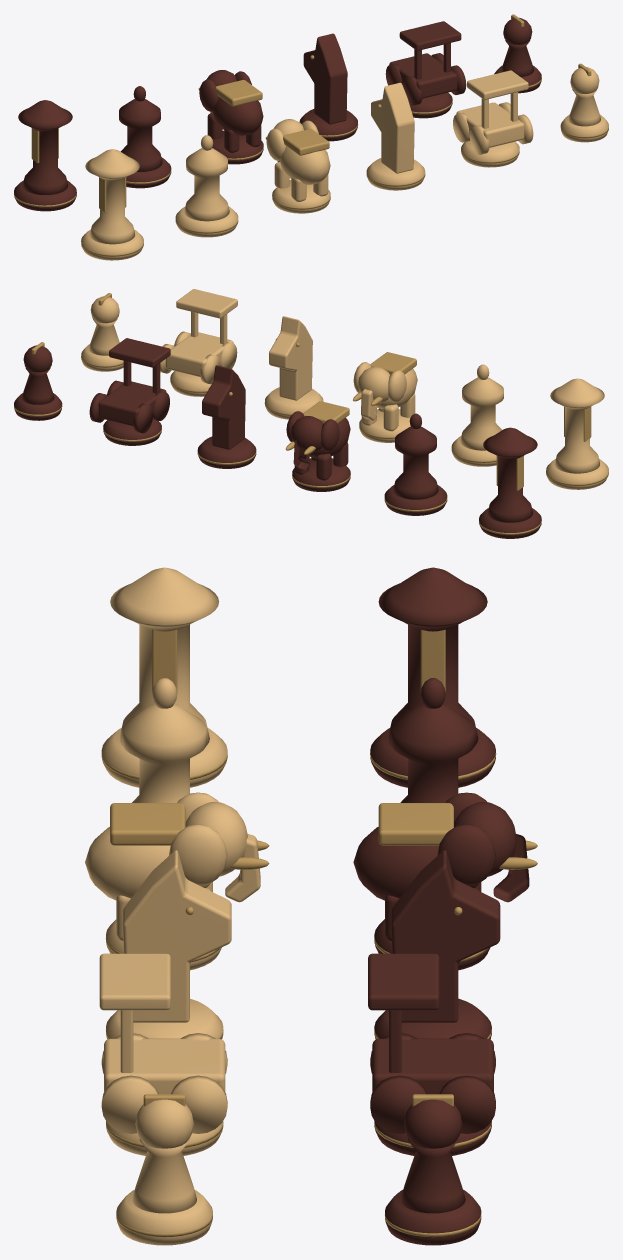
Rendered from collection.glb.
The picture shows the model from 3 angles, top to bottom: view 1: azimuth 30°, elevation 25°; view 2: azimuth 150°, elevation 25°; view 3: azimuth 270°, elevation 25°; orthographic projection. The views are drawn at different scales.
Parts seen in each view (by area): view 1: Royal pavilion, Royal pavilion.002, Horse head.001, Horse head, Royal pavilion.001, Royal pavilion.003, Chariot platform, Chariot platform.001, Elephant body.001, Elephant body, Chariot canopy.001, Chariot canopy (+22 smaller); view 2: Royal pavilion, Royal pavilion.002, Horse head, Horse head.001, Royal pavilion.003, Royal pavilion.001, Chariot platform.001, Chariot platform, Carved pedestal.009, Chariot canopy, Chariot canopy.001, Carved pedestal.008 (+29 smaller); view 3: Horse head.001, Horse head, Royal pavilion.002, Royal pavilion, Royal pavilion.001, Royal pavilion.003, Chariot platform.001, Chariot platform, Chariot canopy, Chariot canopy.001, Elephant body.001, Elephant body (+26 smaller).
Part boxes in pixels (box(x1,y1,x2,y2)): Royal pavilion: box(85, 149, 139, 244); Royal pavilion.002: box(18, 100, 72, 194); Horse head.001: box(303, 33, 347, 124); Horse head: box(371, 82, 414, 173); Royal pavilion.001: box(184, 148, 229, 221); Royal pavilion.003: box(119, 99, 162, 171); Chariot platform: box(456, 102, 524, 147); Chariot platform.001: box(389, 53, 457, 98); Elephant body.001: box(212, 97, 263, 135); Elephant body: box(279, 146, 330, 184); Chariot canopy.001: box(399, 21, 461, 50); Chariot canopy: box(467, 70, 528, 99); Royal pavilion: box(550, 378, 604, 473); Royal pavilion.002: box(483, 427, 537, 522); Horse head: box(269, 316, 312, 400); Horse head.001: box(202, 365, 245, 449); Royal pavilion.003: box(393, 426, 438, 499); Royal pavilion.001: box(460, 377, 503, 450); Chariot platform.001: box(98, 381, 166, 425); Chariot platform: box(165, 332, 233, 376); Carved pedestal.009: box(197, 436, 256, 468); Chariot canopy: box(176, 289, 237, 318); Chariot canopy.001: box(109, 338, 170, 367); Carved pedestal.008: box(292, 458, 350, 491); Horse head.001: box(391, 850, 500, 1022); Horse head: box(123, 850, 231, 1022); Royal pavilion.002: box(378, 567, 487, 746); Royal pavilion: box(110, 567, 218, 745); Royal pavilion.001: box(122, 703, 206, 802); Royal pavilion.003: box(391, 703, 474, 802); Chariot platform.001: box(372, 1038, 493, 1094); Chariot platform: box(104, 1038, 225, 1094); Chariot canopy: box(99, 953, 170, 1010); Chariot canopy.001: box(368, 953, 439, 1010); Elephant body.001: box(353, 827, 478, 900); Elephant body: box(85, 827, 210, 900).
Bounding box in the file's own units: 0.2866 × 0.052 × 0.108.
